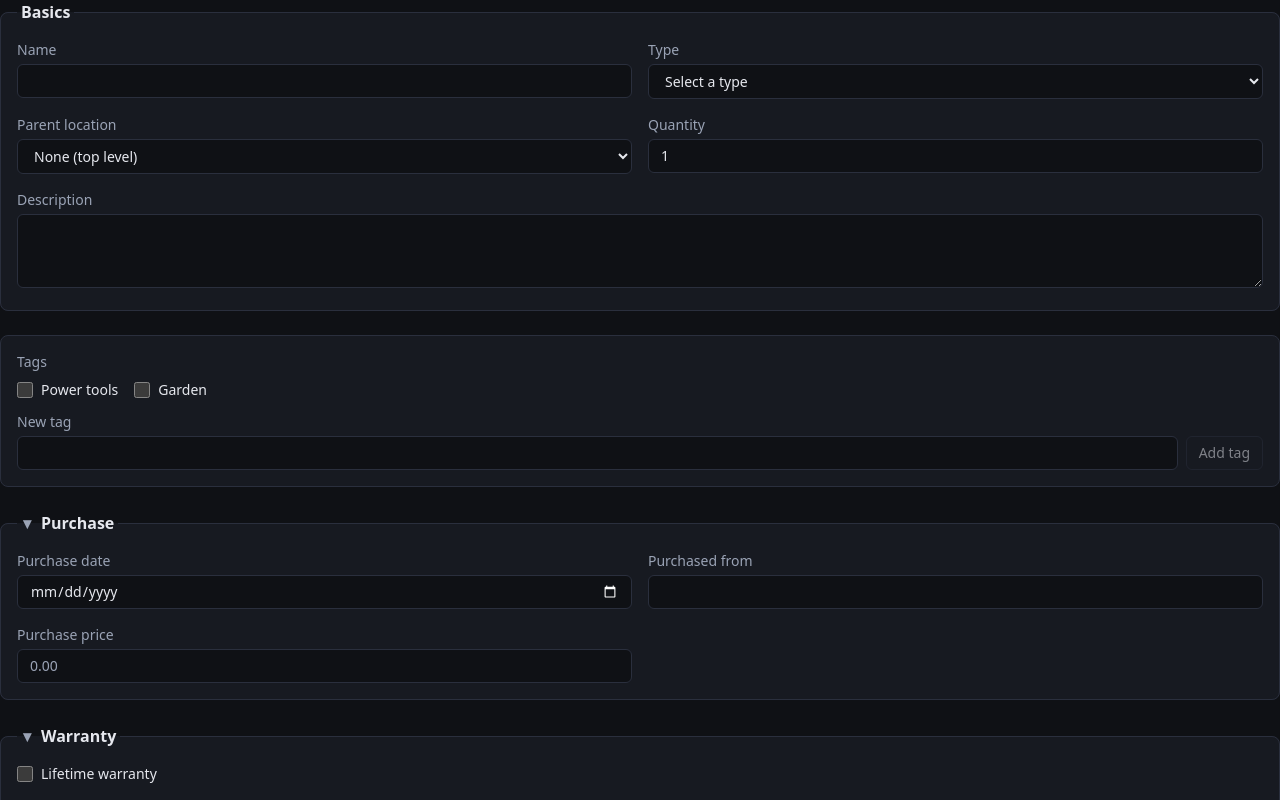
Test case: EntityForm › submit gating › disables Save until a type is chosen
Expected: the checkbox labelled "Garden" is shown, [134,382,150,398]
In the field labelled "Name": point(324, 81) [17,64,632,98], type "Drill"
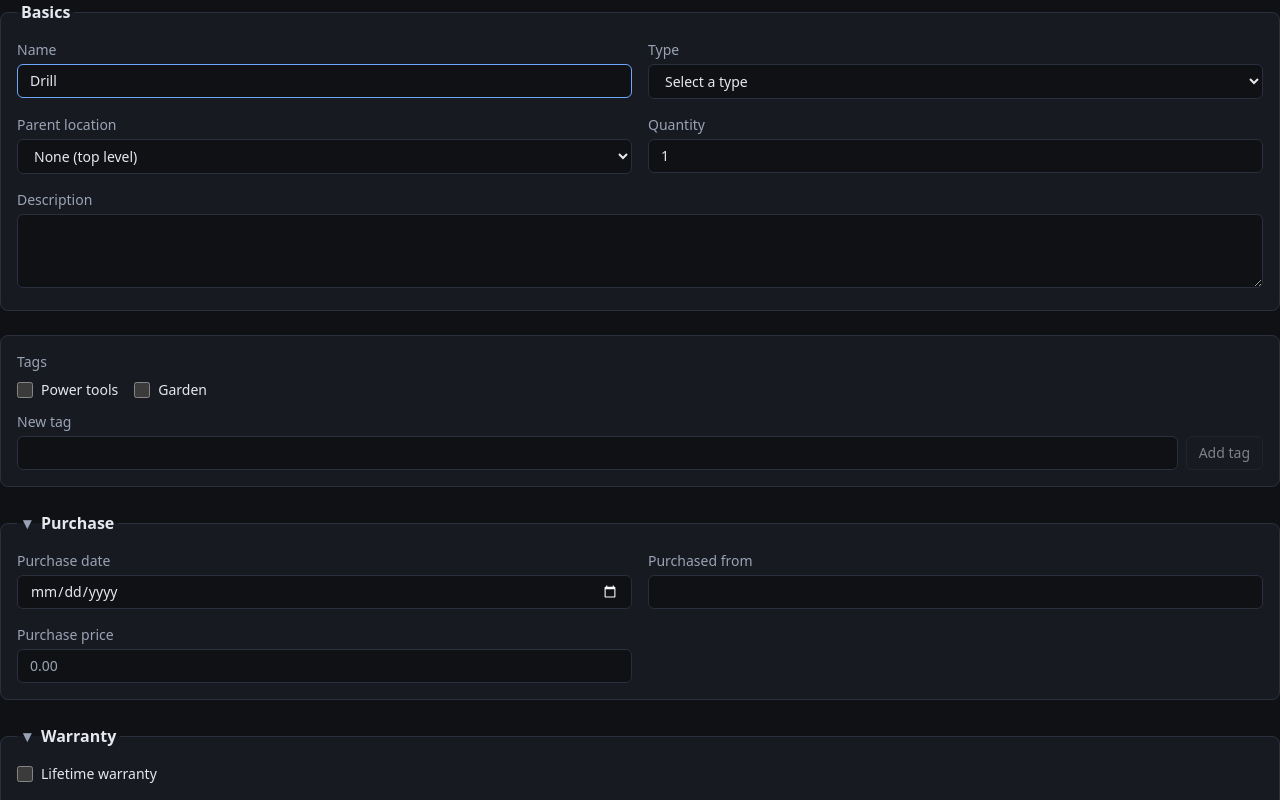
Select "Tool" in the dropdown labelled "Type": point(956, 82) [648,64,1263,99]
(page scrolled)
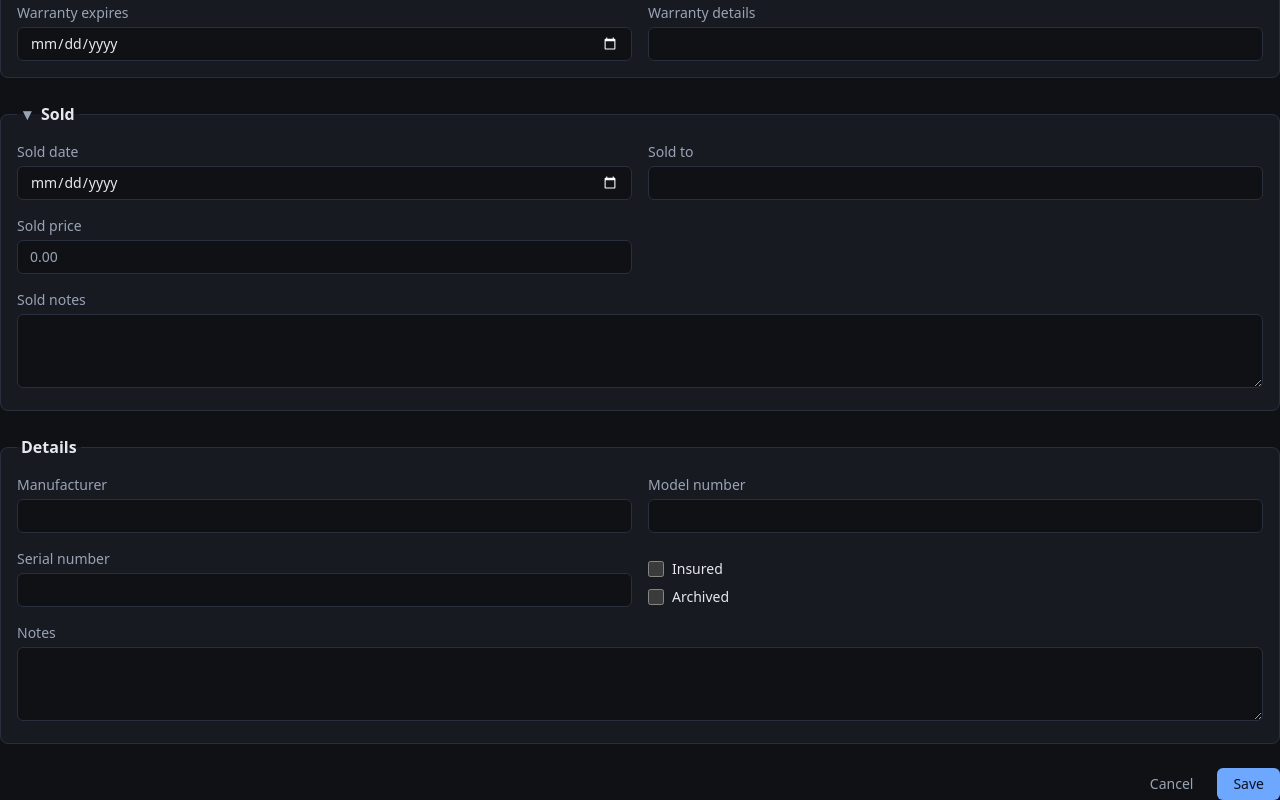
Now the button "Save" is enabled, box [1217,768,1279,799]
